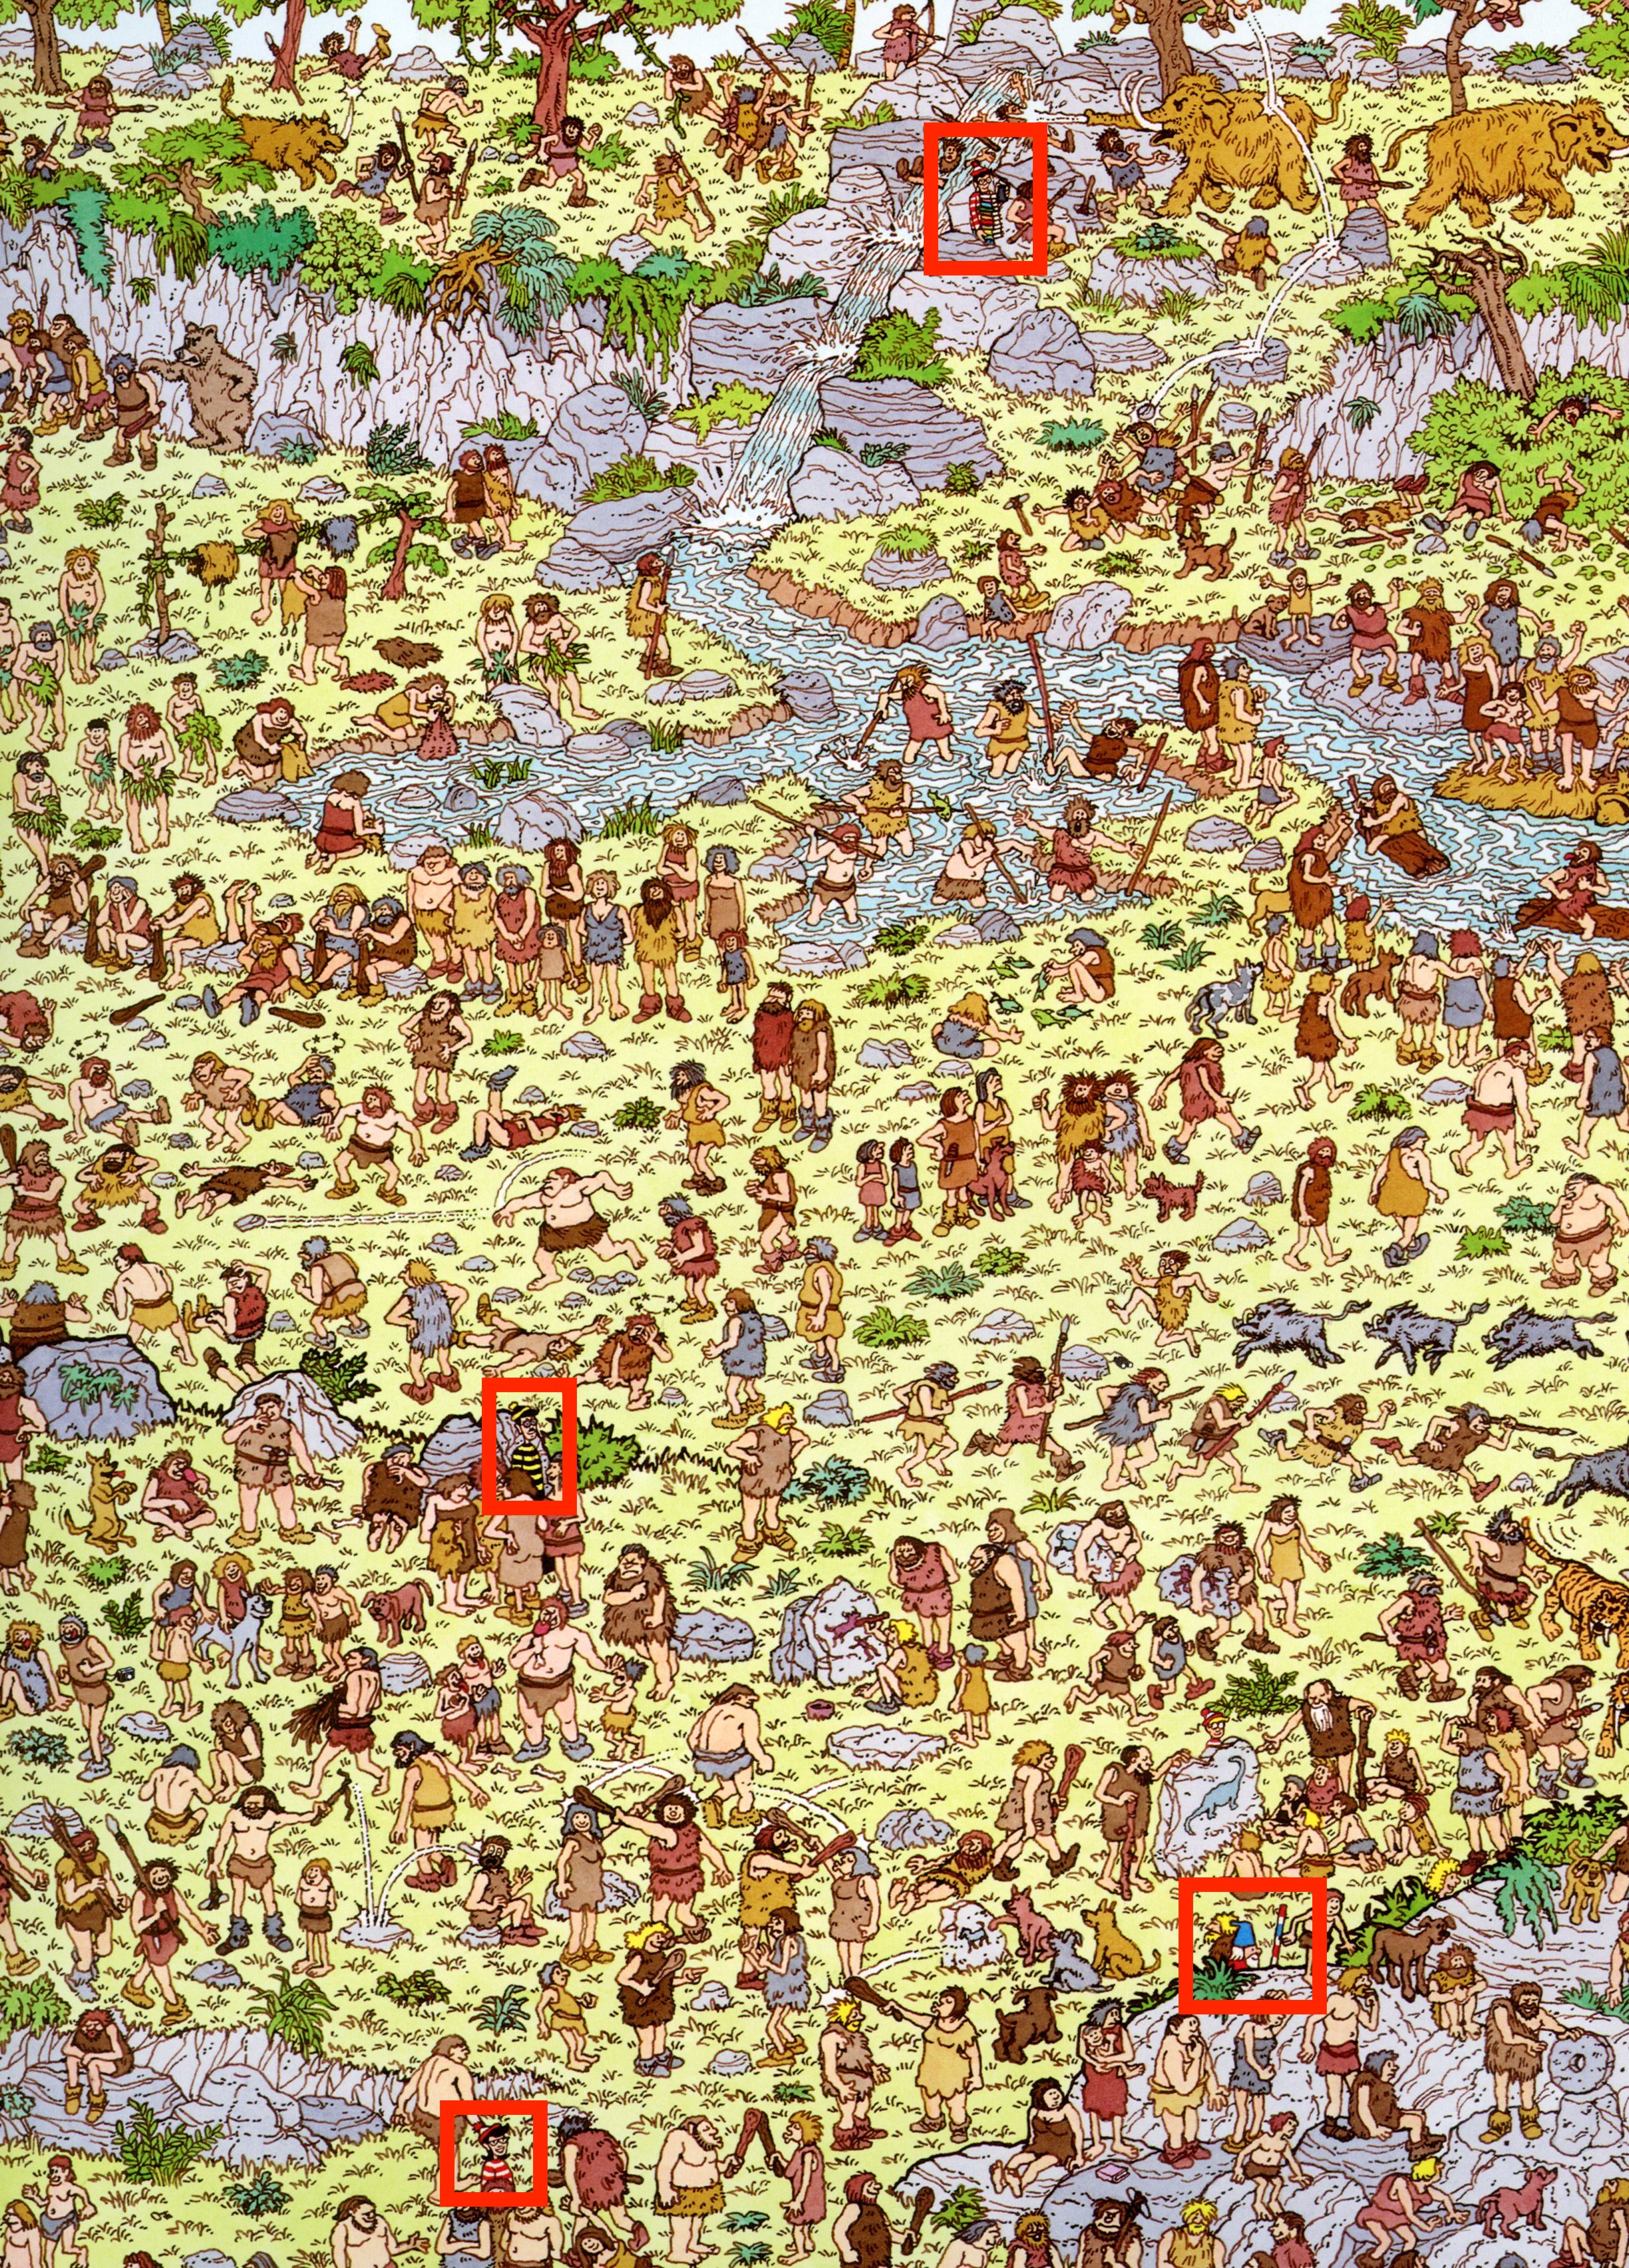odlaw: (495, 1381, 592, 1537)
wenda: (423, 2095, 551, 2210)
white beard: (1171, 1877, 1321, 2034)
